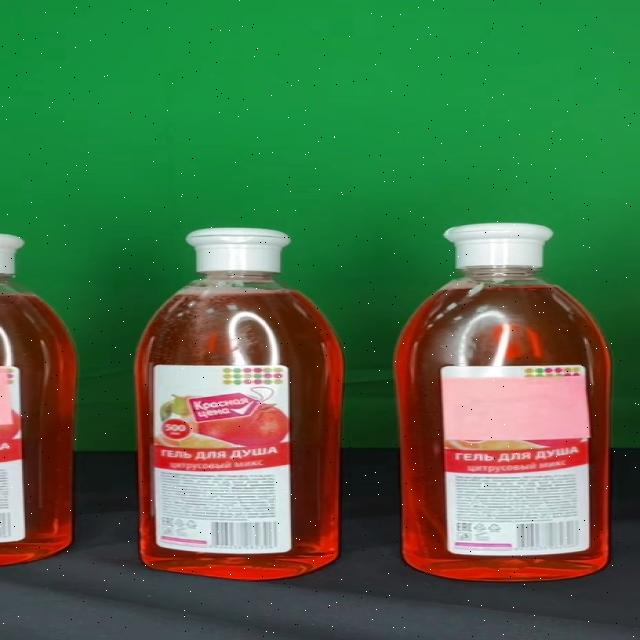Bottle: (396, 223, 610, 581), (134, 228, 343, 580)
Cap: (443, 224, 552, 268), (185, 229, 291, 272)
